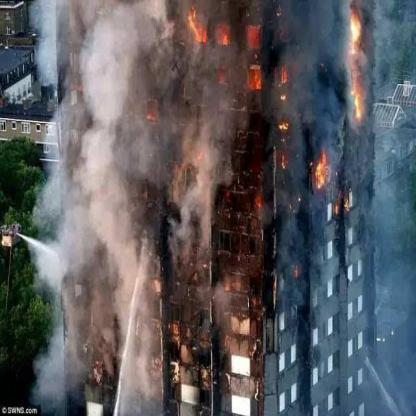fire: (245, 26, 259, 48), (350, 10, 360, 38), (215, 25, 229, 43), (247, 66, 258, 88), (194, 27, 207, 42), (353, 96, 361, 120), (316, 163, 324, 187), (350, 73, 358, 95), (187, 13, 194, 28), (350, 37, 357, 52), (320, 148, 326, 162), (278, 122, 288, 129)
